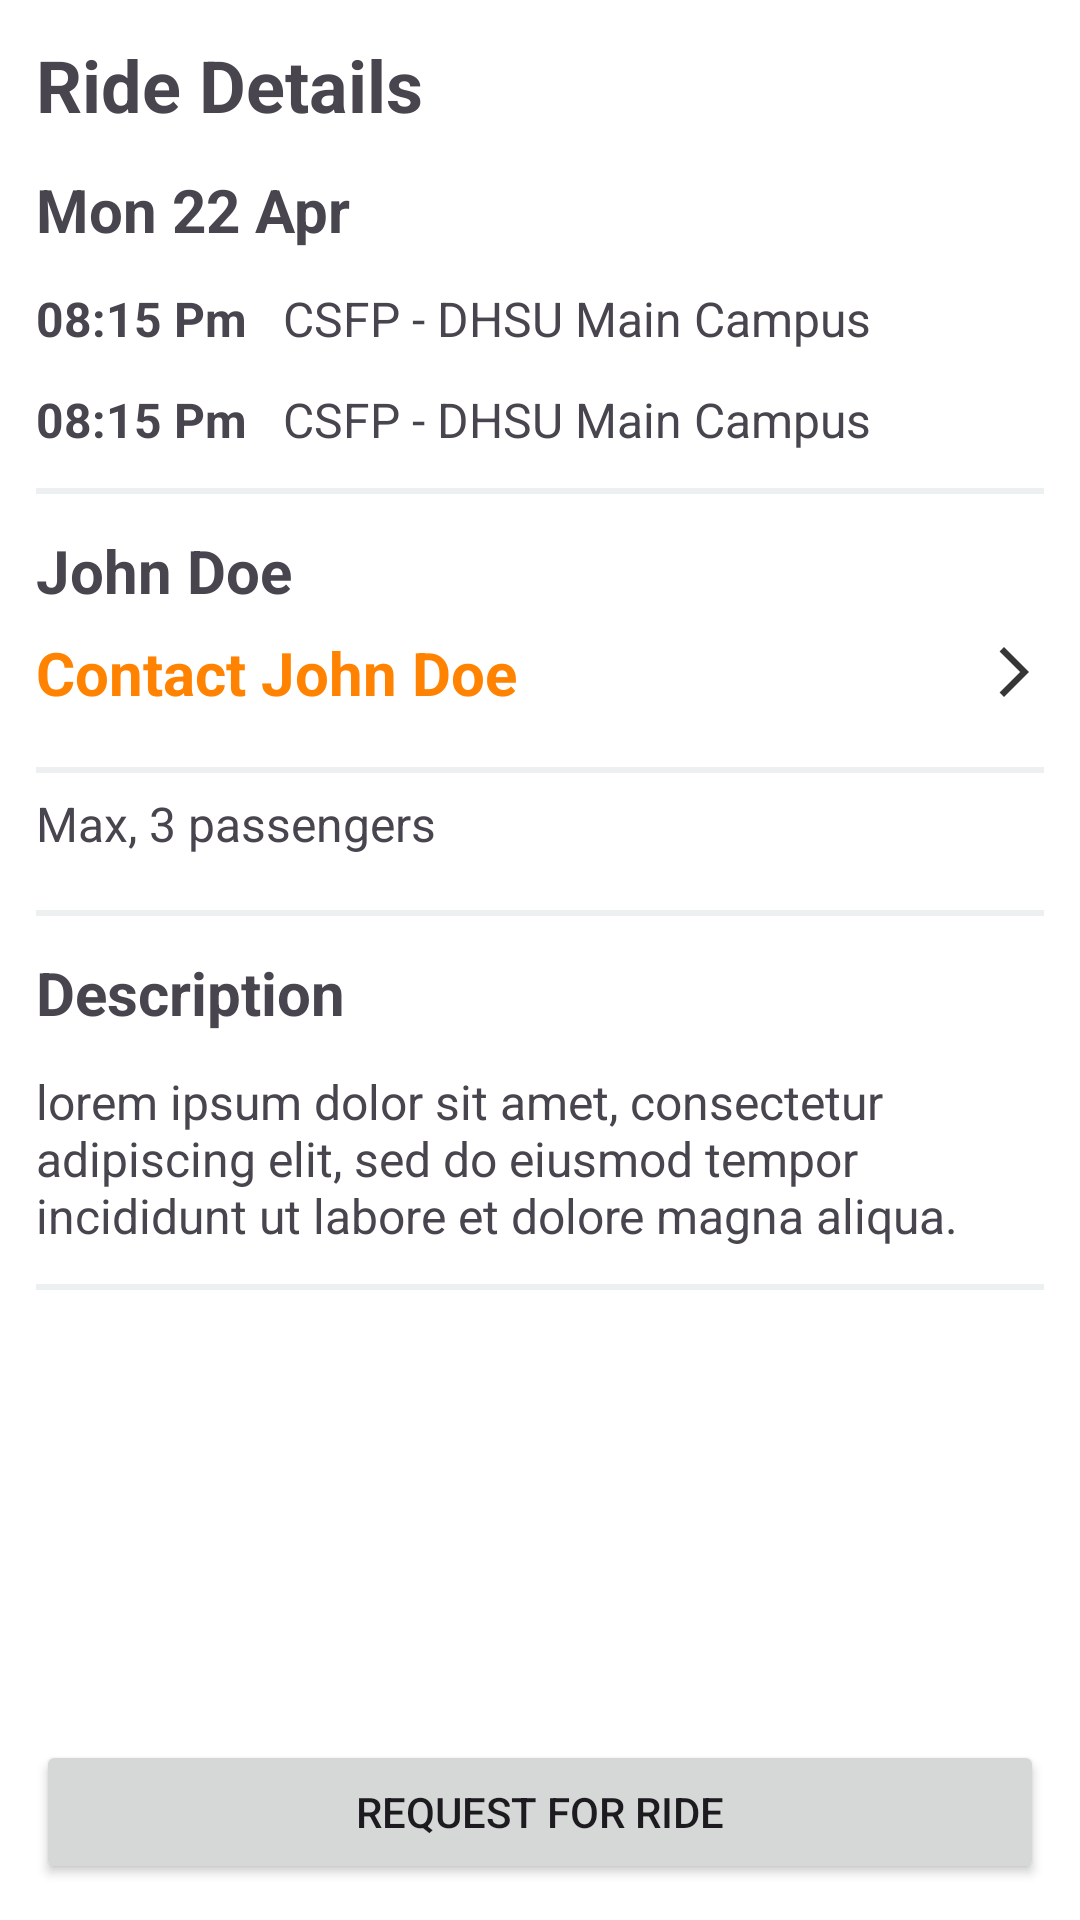

Icons on this 1080px x 1920px Android screen, each with the point to tap as (x,y):
arrow forward: (1014,672)
